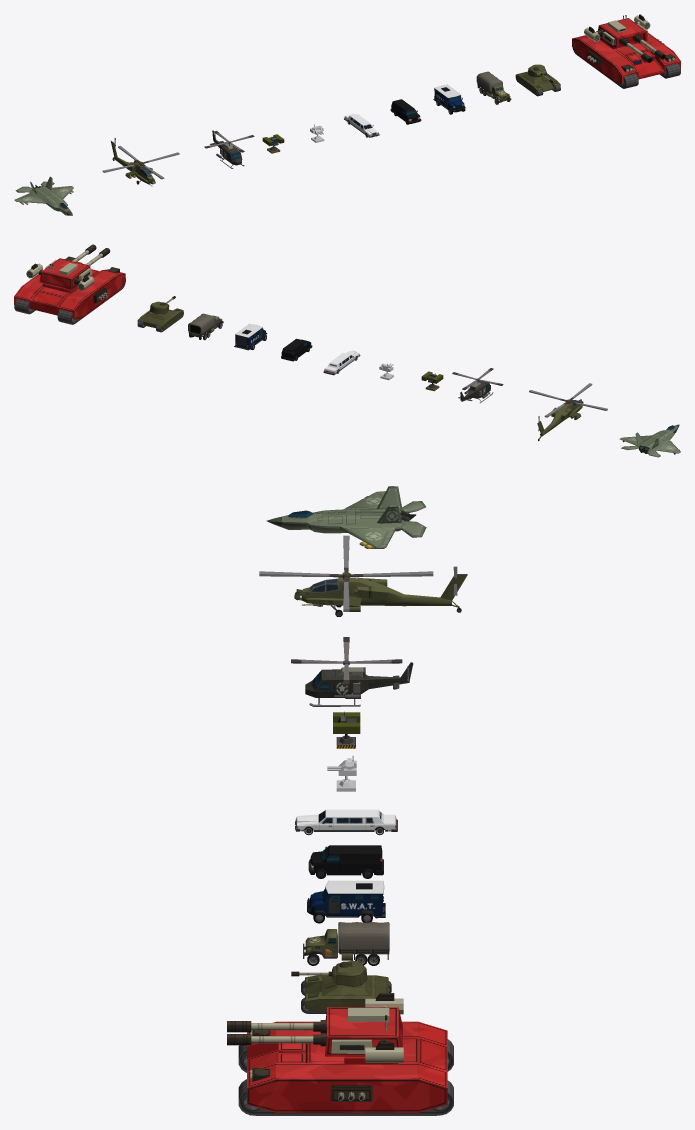
File: Vehicles.FBX
3 views of the same model, one above another, from view 1: azimuth 30°, elevation 25°; view 2: azimuth 150°, elevation 25°; view 3: azimuth 270°, elevation 25° (orthographic). The views are drawn at different scales.
Visible parts, largest first — view 1: MammothTank, F22, MammothTankTurret, ArmyTruckCloth, SwatVan, Tank, Apache, Helicopter, MammothTankBarrels, Van, Limousine, ApacheMainRotor; view 2: MammothTank, MammothTankTurret, F22, Apache, Tank, ArmyTruckCloth, SwatVan, Limousine, Helicopter, ApacheMainRotor, Van; view 3: MammothTank, F22, MammothTankTurret, Apache, SwatVan, ArmyTruckCloth, Helicopter, Tank, Limousine, MammothTankBarrels, Van, MammothTankTrackLeft (+2 smaller).
Part boxes in pixels (box(x1,y1,x2,y2)): MammothTank: box(572, 32, 680, 83); F22: box(14, 176, 73, 215); MammothTankTurret: box(596, 15, 648, 48); ArmyTruckCloth: box(476, 71, 511, 102); SwatVan: box(433, 84, 465, 112); Tank: box(515, 71, 560, 93); Apache: box(111, 141, 155, 184); Helicopter: box(210, 130, 244, 168); MammothTankBarrels: box(619, 34, 665, 62); Van: box(390, 99, 421, 124); Limousine: box(344, 113, 379, 137); ApacheMainRotor: box(102, 145, 179, 179); MammothTank: box(14, 256, 125, 319); MammothTankTurret: box(37, 258, 92, 289); F22: box(619, 424, 680, 457); Apache: box(537, 399, 583, 440); Tank: box(137, 308, 183, 329); ArmyTruckCloth: box(188, 313, 223, 339); SwatVan: box(234, 324, 267, 350); Limousine: box(323, 351, 360, 375); Helicopter: box(458, 378, 493, 403); ApacheMainRotor: box(529, 383, 607, 417); Van: box(281, 338, 312, 361); MammothTank: box(247, 1021, 447, 1112); F22: box(266, 486, 426, 548); MammothTankTurret: box(325, 1006, 402, 1056); Apache: box(294, 572, 467, 616); SwatVan: box(307, 880, 385, 918); ArmyTruckCloth: box(303, 922, 389, 960); Helicopter: box(305, 660, 413, 706); Tank: box(305, 975, 388, 1012); Limousine: box(295, 809, 397, 831); MammothTankBarrels: box(227, 1020, 326, 1046); Van: box(308, 845, 383, 875); MammothTankTrackLeft: box(238, 1079, 453, 1115).
Bounding box in the file's own units: 145 × 8.67 × 23.65.
